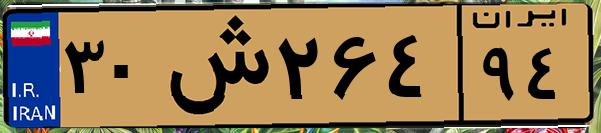0: (110, 28, 158, 98)
2: (270, 28, 330, 110)
3: (57, 26, 110, 100)
4: (385, 28, 445, 110), (525, 38, 570, 115)
6: (330, 28, 385, 110)
9: (475, 38, 525, 113)
ش: (158, 12, 270, 120)
